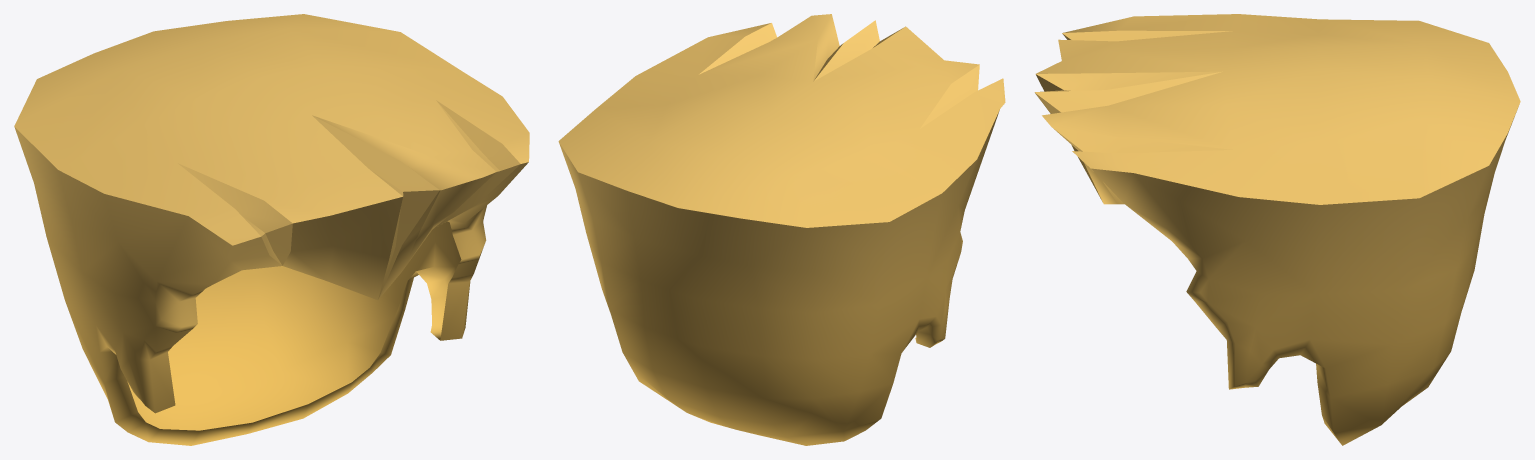
The model's file is Hair_Yellow_4.fbx.
3 views of the same model, side by side, from view 1: azimuth 30°, elevation 25°; view 2: azimuth 150°, elevation 25°; view 3: azimuth 270°, elevation 25° (orthographic). The views are drawn at different scales.
Parts seen in each view (by area): view 1: Hair_Yellow_4; view 2: Hair_Yellow_4; view 3: Hair_Yellow_4.
Part boxes in pixels (x1,y1,x2,y2): Hair_Yellow_4: (14, 14, 529, 445); Hair_Yellow_4: (558, 14, 1005, 445); Hair_Yellow_4: (1034, 14, 1520, 445).
Size of the model in its own units: 62.29 by 53.97 by 68.97.
